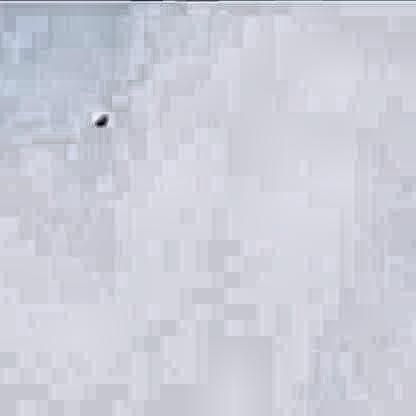golfball: (92, 107, 105, 125)
